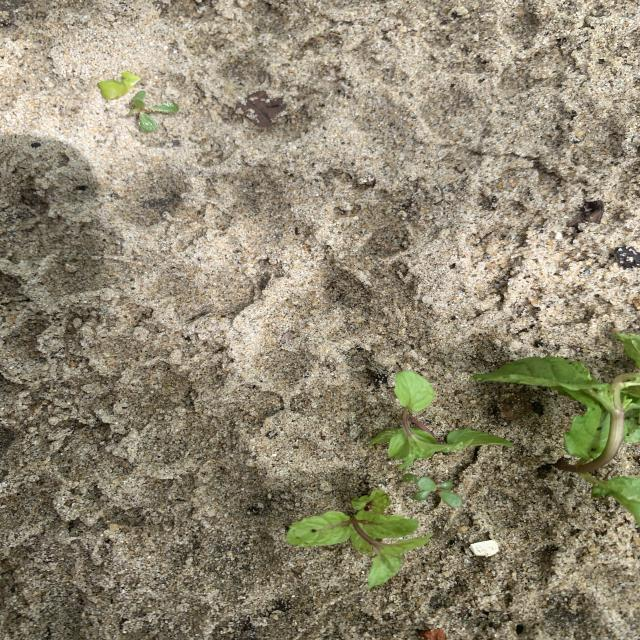crop: (472, 334, 638, 523), (286, 490, 431, 587), (371, 371, 511, 465)
weed: (128, 91, 178, 131), (413, 476, 461, 506)
